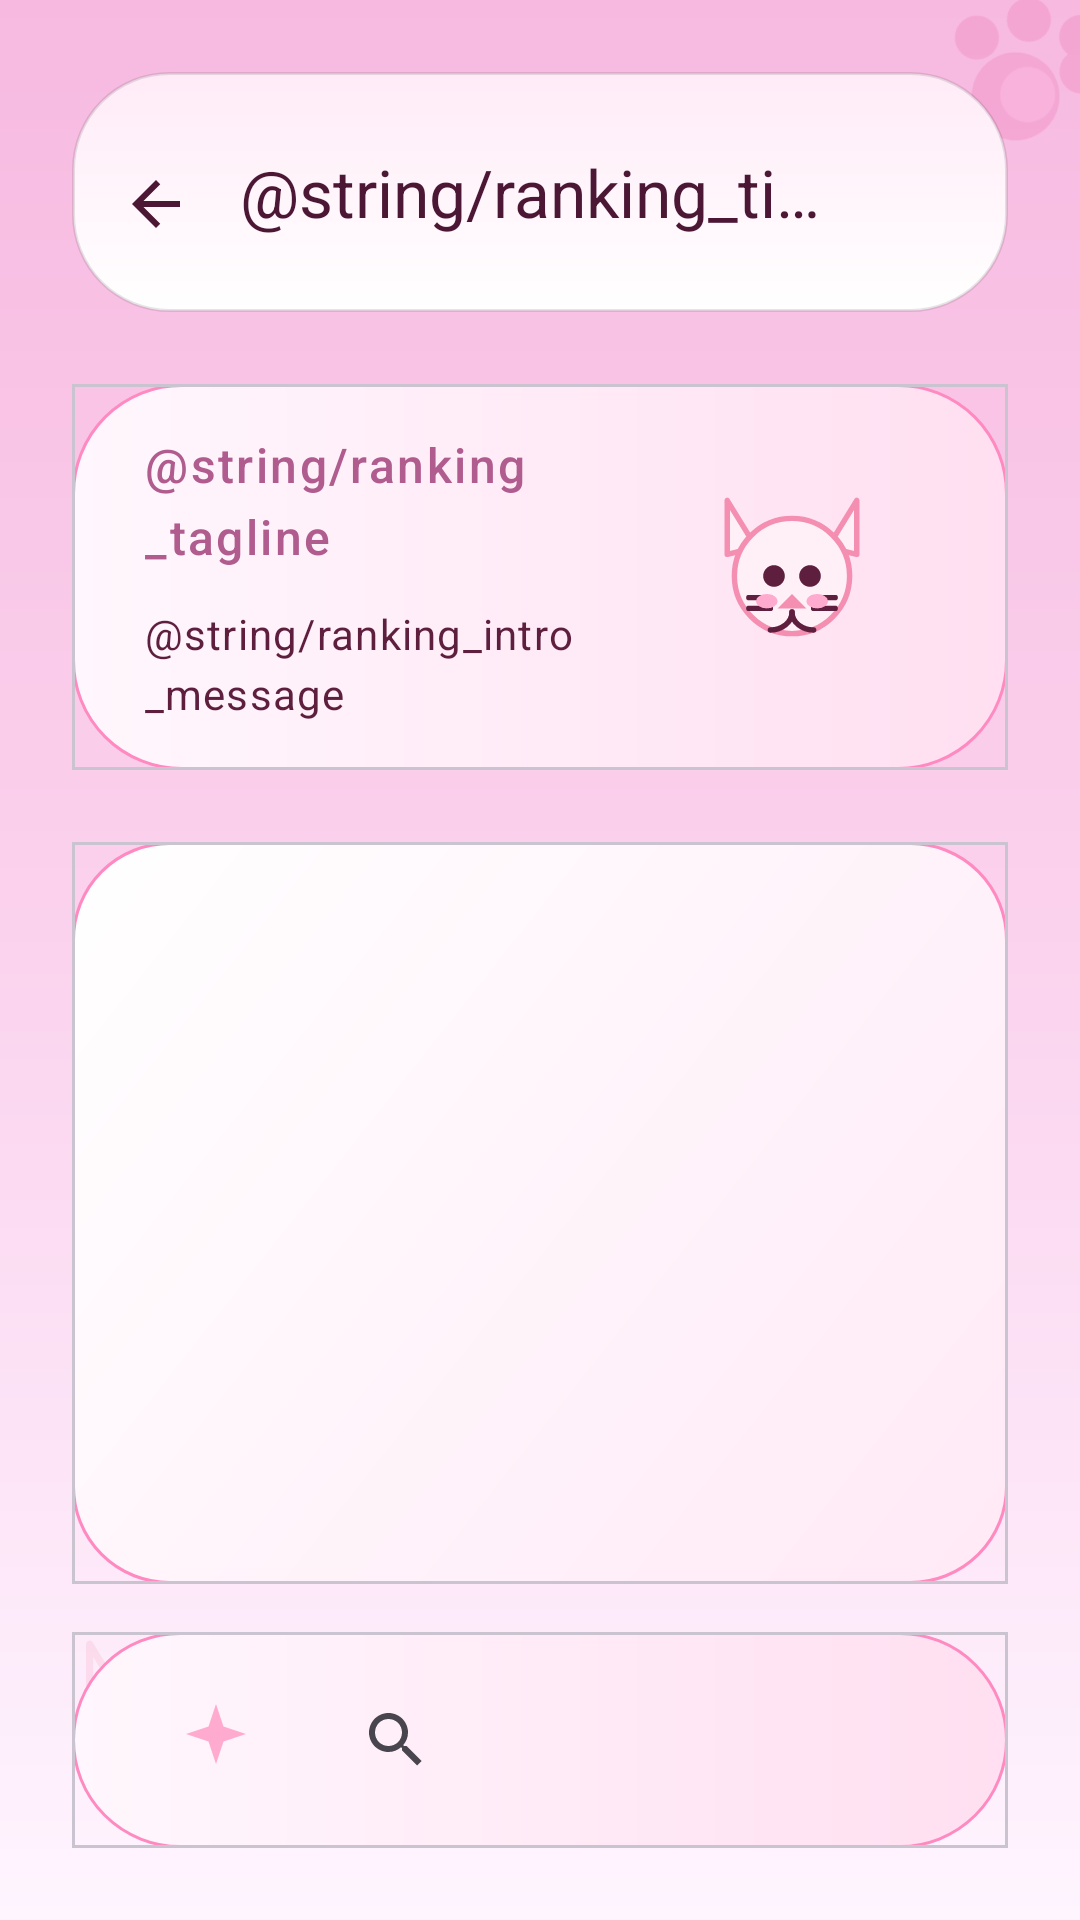

Point at icon controls on the screen. Image size 1080 x 1920, points as (x=x, y=y).
sparkle: (x=216, y=1734)
